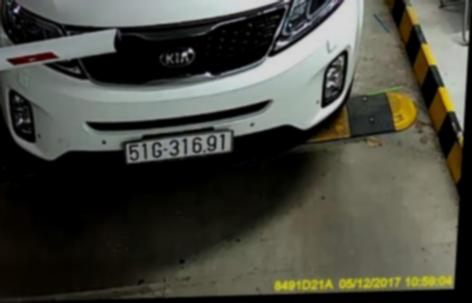License_Plate: (121, 133, 237, 161)
